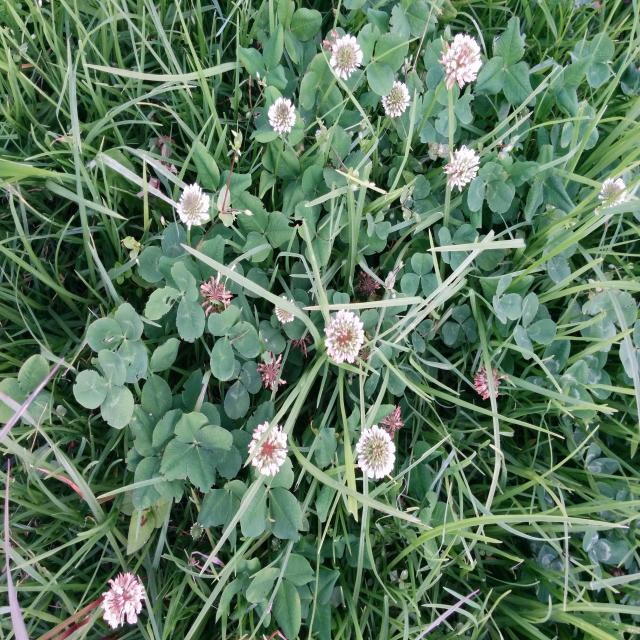Four Leaf Clover: (159, 411, 232, 493)
